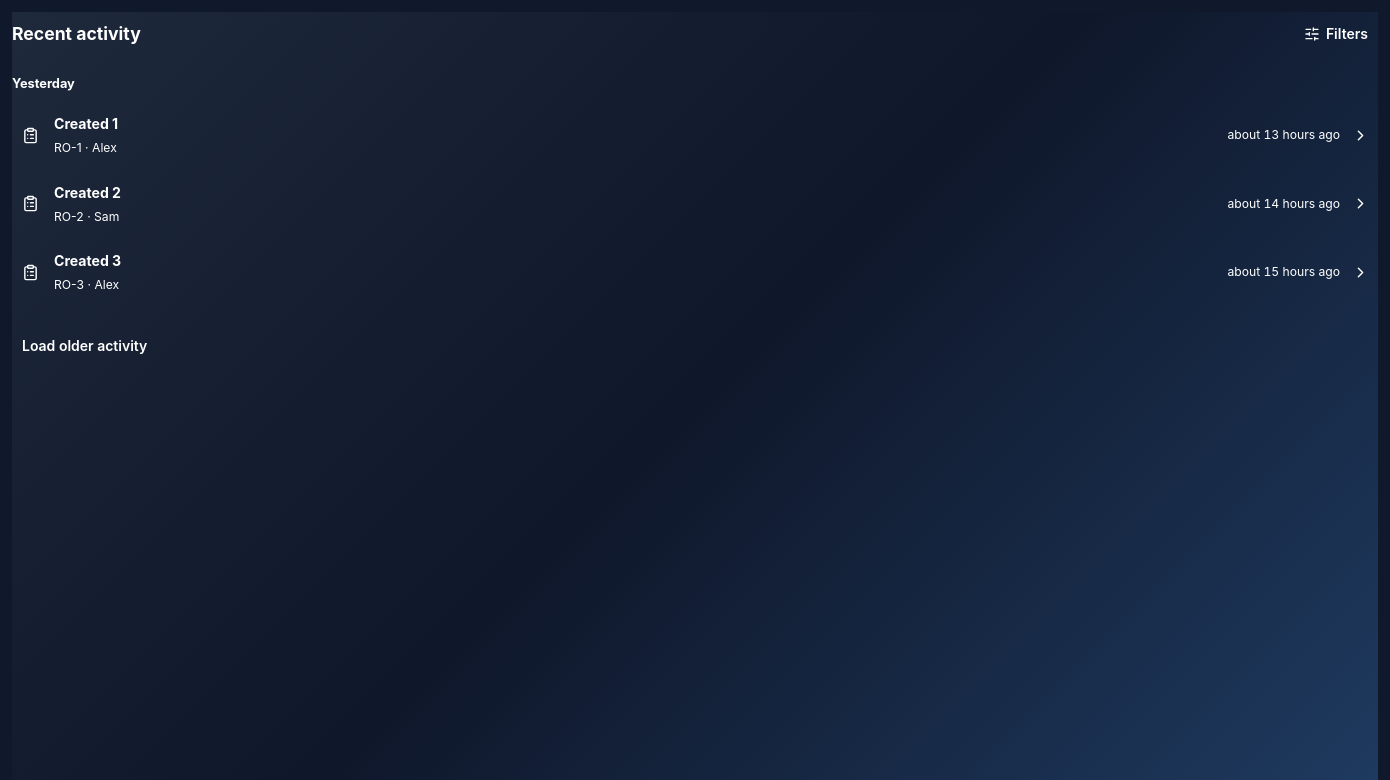
Scenario: Shop Work activity consistency › preserves events and offers one retry when older-page loading fails
Click the button "Load older activity".
click(85, 346)  # box [12,324,157,368]
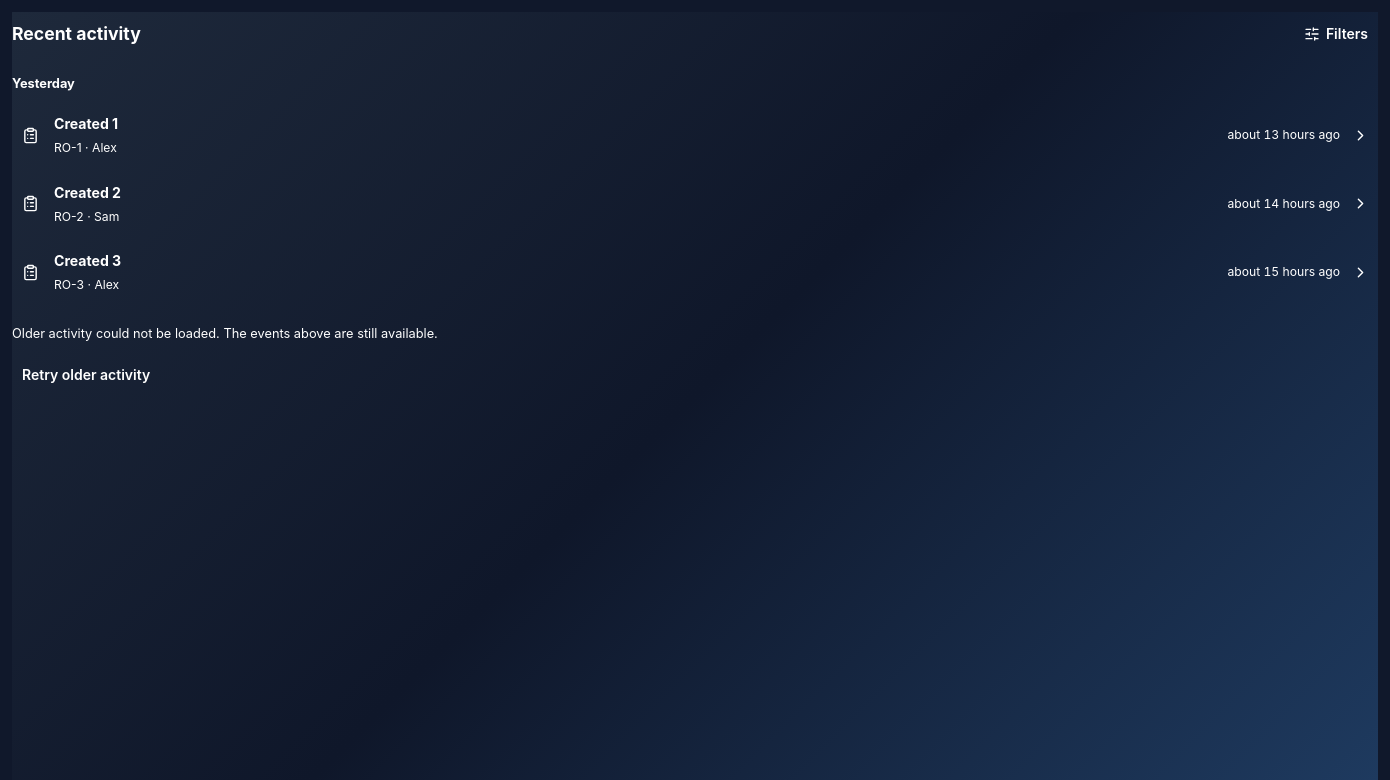
Expected: the number of list items is 3, [12,101,1378,170]; [12,170,1378,238]; [12,238,1378,306]
Expected: the message shows "Older activity could not be loaded", [12,326,438,341]
Click the button "Retry older activity".
click(86, 375)  # box [12,353,160,397]
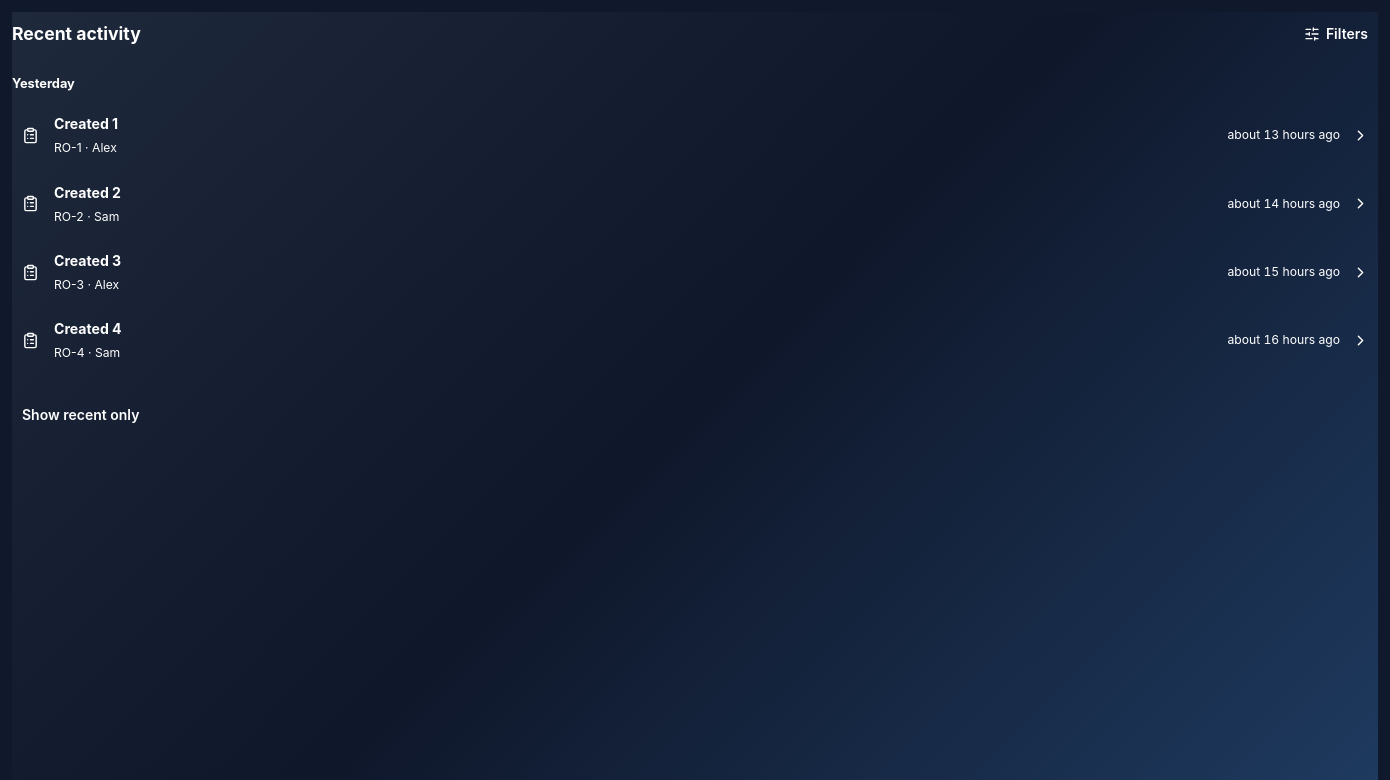
Expected: the number of list items is 4, [12,101,1378,170]; [12,170,1378,238]; [12,238,1378,306]; [12,306,1378,374]
Expected: the message "Older activity could not be loaded. The events above are still available." is gone
